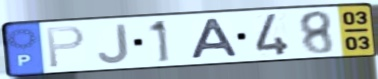1: (147, 18, 172, 63)
4: (253, 12, 292, 58)
8: (297, 9, 336, 55)
A: (189, 16, 241, 61)
J: (96, 22, 132, 65)
P: (44, 24, 87, 70)
